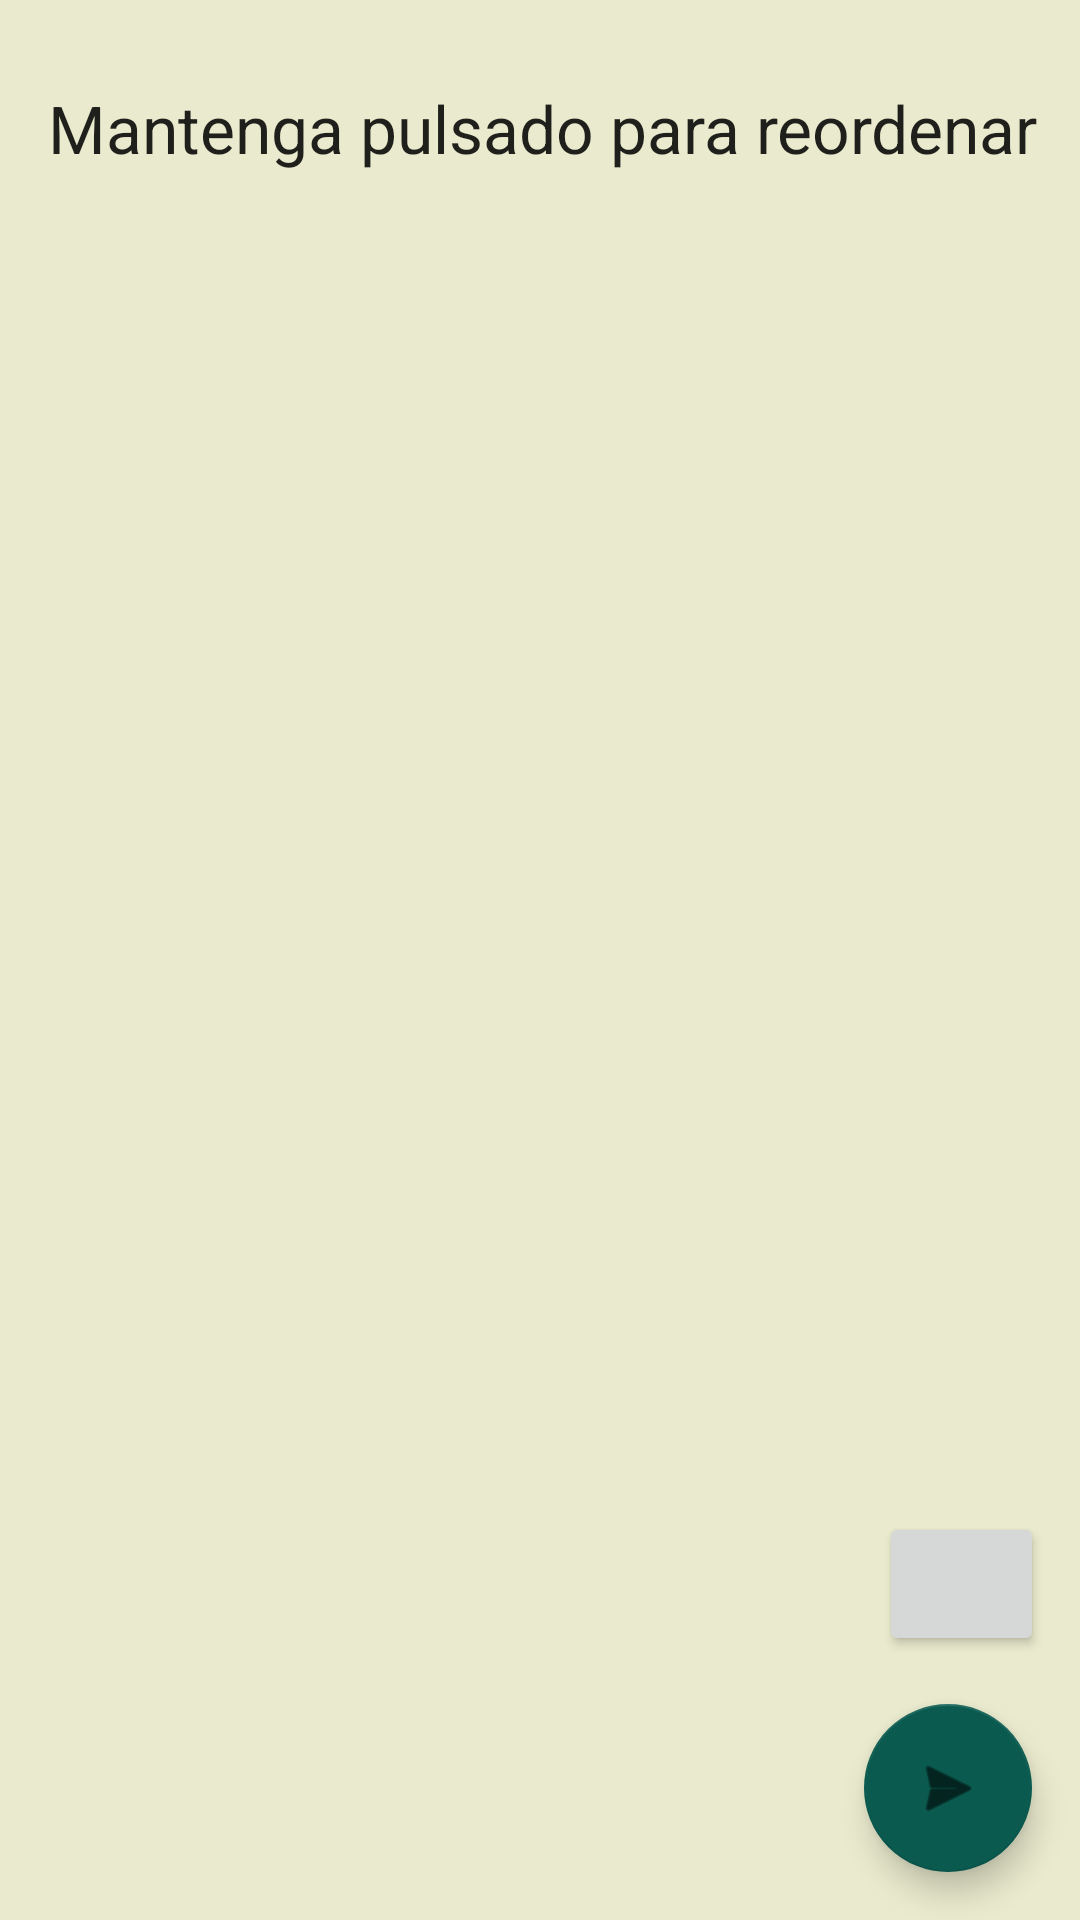

Point at icon controls on the screen. Image size 1080×1920, points as point (x, y).
Enviar quiniela: point (948, 1788)
